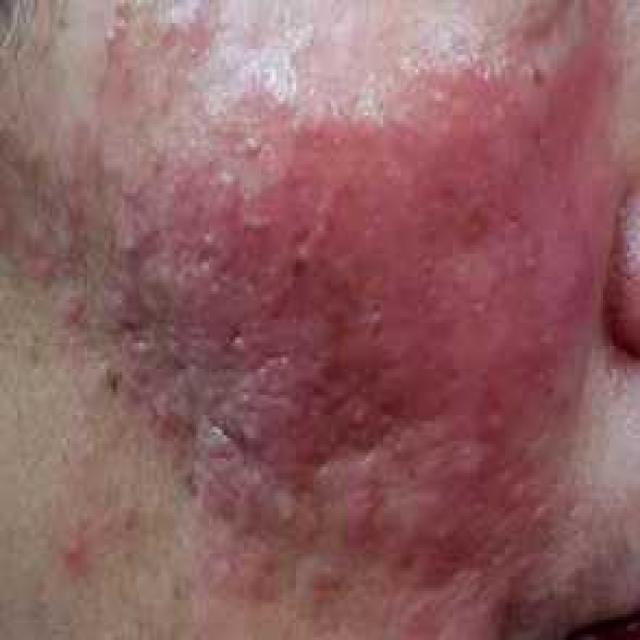Rosacea: (111, 55, 602, 592)
